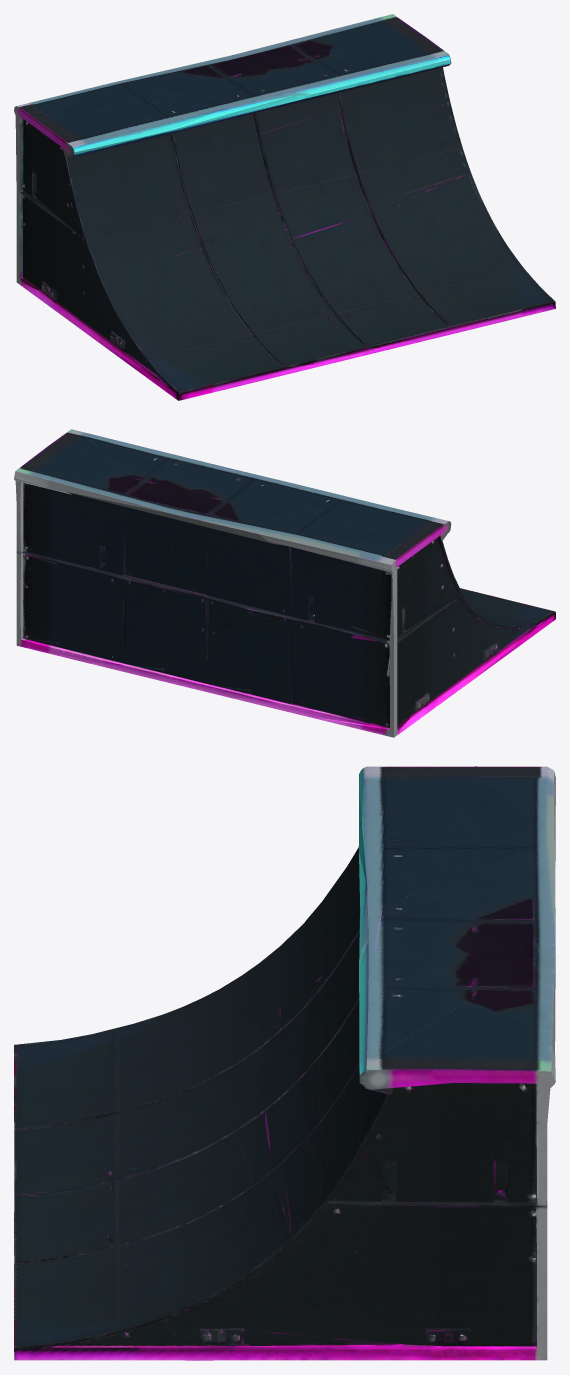
The model's file is prop_ramp.glb.
3 views of the same model, one above another, from view 1: azimuth 30°, elevation 25°; view 2: azimuth 150°, elevation 25°; view 3: azimuth 270°, elevation 25° (orthographic). The views are drawn at different scales.
Parts seen in each view (by area): view 1: Mesh_0; view 2: Mesh_0; view 3: Mesh_0.
Part boxes in pixels (x1=…): Mesh_0: x1=14, y1=14, x2=555, y2=400; Mesh_0: x1=14, y1=429, x2=555, y2=737; Mesh_0: x1=14, y1=766, x2=555, y2=1360.
Bounding box in the file's own units: 1.9 × 0.8491 × 1.43.
Materials: 1 (1 with a texture image).
